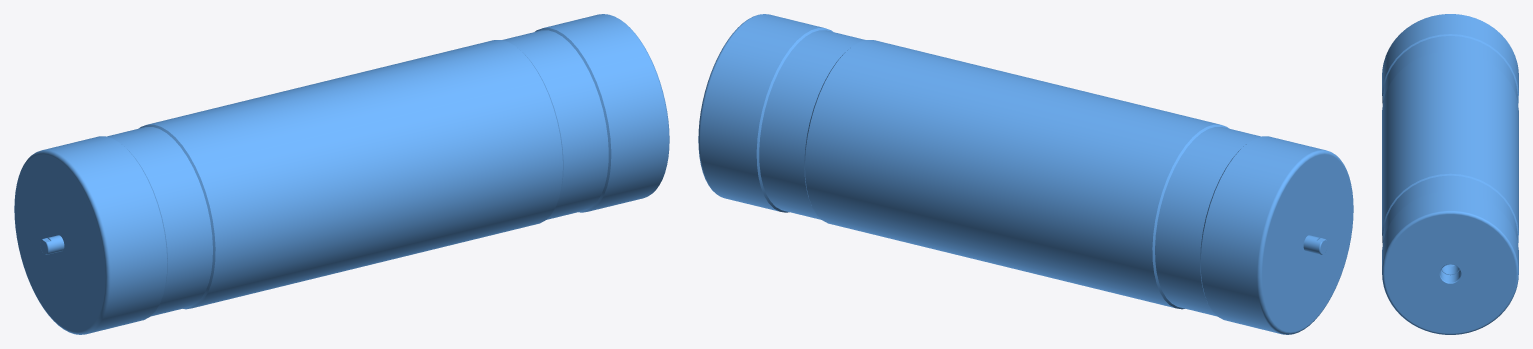
Rendered from p4_portafolio.glb.
3 renders of one model, left to right at view 1: azimuth 30°, elevation 25°; view 2: azimuth 150°, elevation 25°; view 3: azimuth 270°, elevation 25°, orthographic. The views are drawn at different scales.
Visible parts, largest first — view 1: accumulator_hps10-415-250-0400_01-1; view 2: accumulator_hps10-415-250-0400_01-1; view 3: accumulator_hps10-415-250-0400_01-1.
Boxes of the visible parts, x1=… form: accumulator_hps10-415-250-0400_01-1: x1=14, y1=14, x2=669, y2=334; accumulator_hps10-415-250-0400_01-1: x1=698, y1=14, x2=1353, y2=334; accumulator_hps10-415-250-0400_01-1: x1=1382, y1=14, x2=1518, y2=334.
Bounding box in the file's own units: 1.06 × 0.2998 × 0.3.
